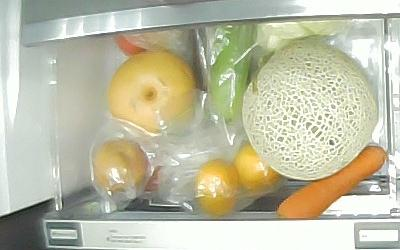cabbage_vinyl: (255, 19, 350, 50)
carrot: (275, 144, 388, 220)
melon: (241, 38, 379, 181)
pear: (108, 50, 197, 138)
prune_vinyl: (91, 137, 151, 197)
tangerine_vinyl: (195, 159, 241, 218), (237, 144, 280, 195)
zucchini_vinyl: (207, 24, 253, 121)
